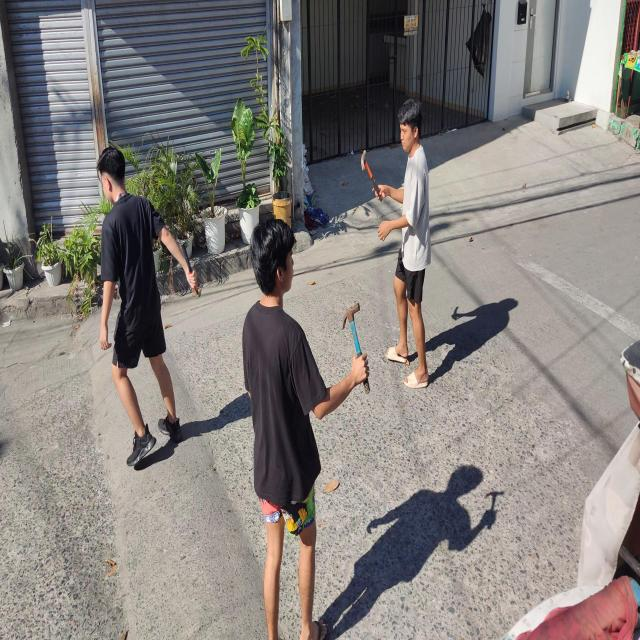hammer: (342, 303, 370, 394), (361, 150, 383, 202), (181, 242, 201, 299)
